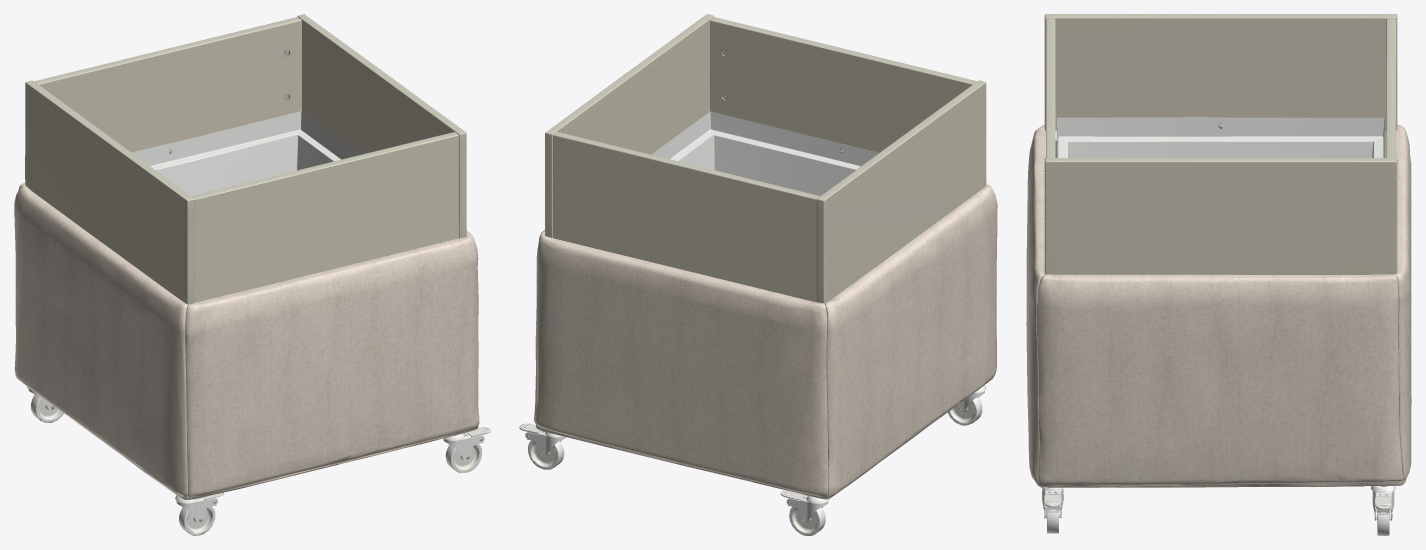
3 views of the same model, side by side, from view 1: azimuth 30°, elevation 25°; view 2: azimuth 150°, elevation 25°; view 3: azimuth 270°, elevation 25° (orthographic). The views are drawn at different scales.
Visible parts, largest first — view 1: ASY_ART_80587577_S01_NV01; view 2: ASY_ART_80587577_S01_NV01; view 3: ASY_ART_80587577_S01_NV01.
Part boxes in pixels (x1,y1,x2,y2): ASY_ART_80587577_S01_NV01: (14,14,490,535); ASY_ART_80587577_S01_NV01: (519,14,997,535); ASY_ART_80587577_S01_NV01: (1026,14,1411,535).
Bounding box in the file's own units: 0.7409 × 0.7473 × 0.7046.
Materials: 1 (1 with a texture image).
